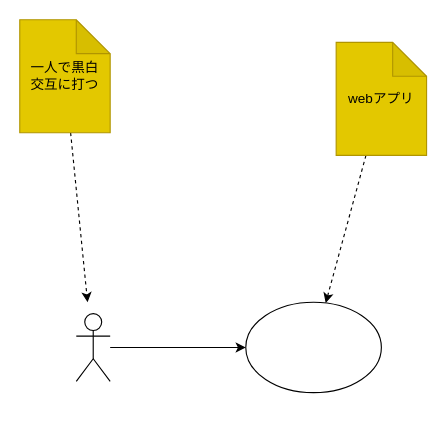
This 446x425 diagram has some shape labels left out. The centre of each missing label's shape, as x and y in pixels:
"Actor" goes at (92,346).
"リバーシ アプリケーション" goes at (313,347).
